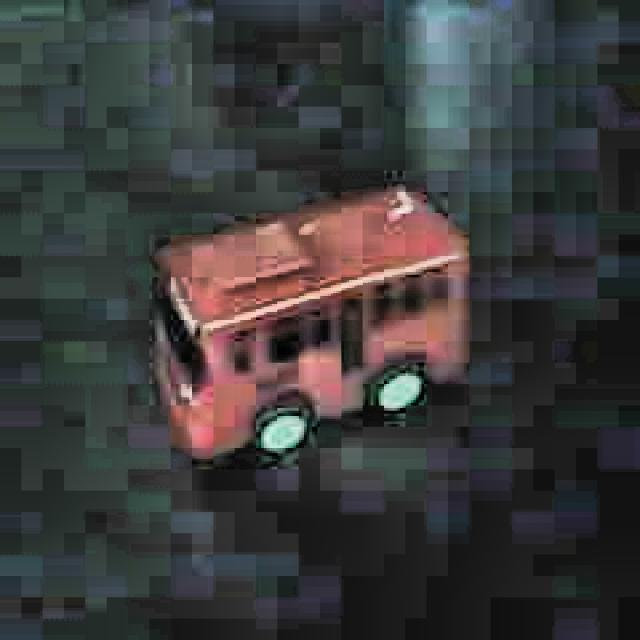bus: (144, 178, 471, 475)
